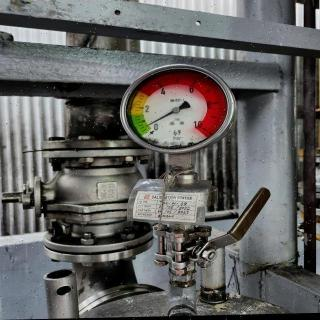gauge: (117, 62, 239, 156), (192, 120, 215, 138), (146, 123, 160, 139), (172, 107, 180, 113), (144, 123, 150, 128)
